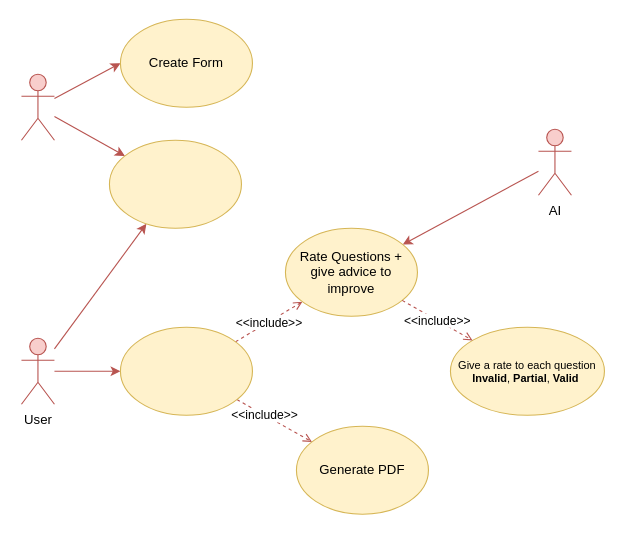
This 624x534 diagram has some shape labels left out. Each missing label, with the box of its shape:
Admin: (20, 73, 54, 140)
Authentication: (108, 139, 241, 228)
Fill In Form: (119, 326, 252, 415)
